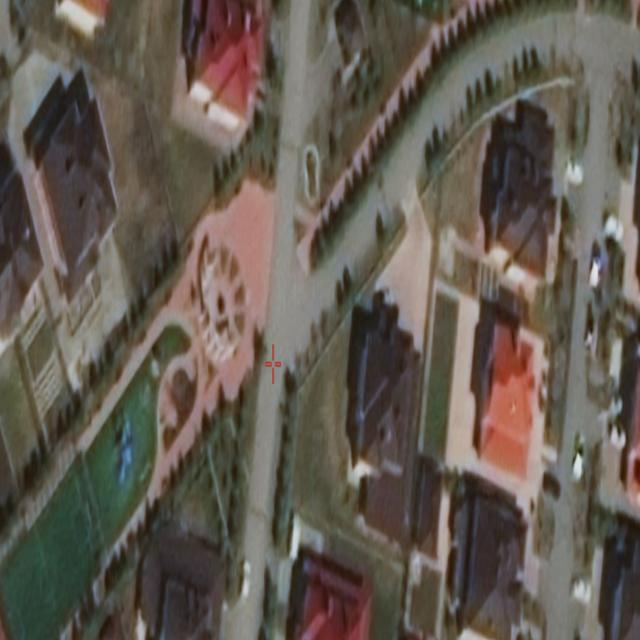road: (217, 0, 640, 640)
